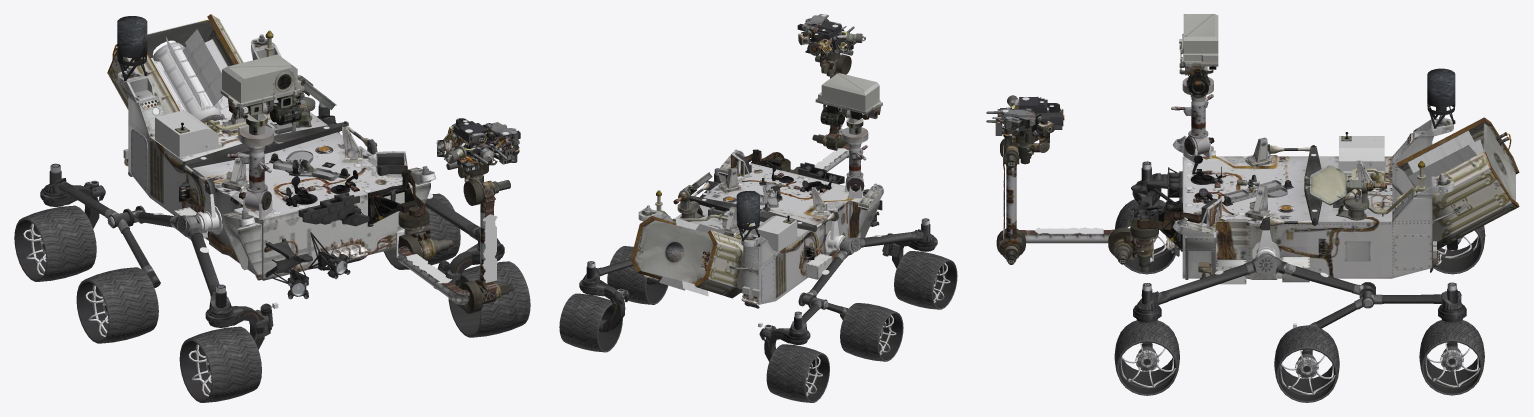
The model's file is curio.glb.
3 views of the same model, side by side, from view 1: azimuth 30°, elevation 25°; view 2: azimuth 150°, elevation 25°; view 3: azimuth 270°, elevation 25° (orthographic). The views are drawn at different scales.
Visible parts, largest first — view 1: Chassis, body, wheel_02_R, wheel_03_R, wheel_01_R, RTG, wheel_01_L, ChemCam, arm_03.001, arm_02.001, radiators, Cylinder.006 (+20 smaller); view 2: Chassis, body, wheel_02_R, wheel_01_R, wheel_03_R, wheel_03_L, radiators, ChemCam, wheel_02_L, Cylinder.023, RTG, antenna_UHF (+18 smaller); view 3: Chassis, body, radiators, wheel_02_L, wheel_03_L, wheel_01_L, ChemCam, Cylinder.022, arm_02.001, RTG, Cylinder.013, arm_03.001 (+16 smaller).
Part boxes in pixels (x1,y1,x2,y2): Chassis: (117,38,435,280); body: (112,19,430,299); wheel_02_R: (76,267,158,343); wheel_03_R: (14,205,96,281); wheel_01_R: (179,326,261,402); RTG: (151,29,232,122); wheel_01_L: (448,261,530,337); ChemCam: (220,54,304,107); arm_03.001: (463,179,510,301); arm_02.001: (398,246,514,313); radiators: (107,14,243,114); Cylinder.006: (44,163,160,287); Chassis: (638,150,883,304); body: (635,149,882,283); wheel_02_R: (840,303,903,361); wheel_01_R: (894,251,957,309); wheel_03_R: (766,344,829,402); wheel_03_L: (559,293,622,352); radiators: (630,216,743,298); ChemCam: (815,73,882,114); wheel_02_L: (607,246,668,304); Cylinder.023: (579,280,629,331); RTG: (659,218,724,296); antenna_UHF: (736,191,759,241); Chassis: (1172,118,1453,279); body: (1131,115,1515,284); radiators: (1396,117,1519,252); wheel_02_L: (1274,325,1339,402); wheel_03_L: (1419,320,1484,395); wheel_01_L: (1114,320,1179,395); ChemCam: (1180,14,1218,66); Cylinder.022: (1302,282,1462,351); arm_02.001: (996,227,1114,264); RTG: (1407,130,1500,185); Cylinder.013: (1136,254,1274,311); arm_03.001: (999,138,1022,250).
Bounding box in the file's own units: 2.78 × 2.23 × 3.94.
Materials: 7 (5 with a texture image).
